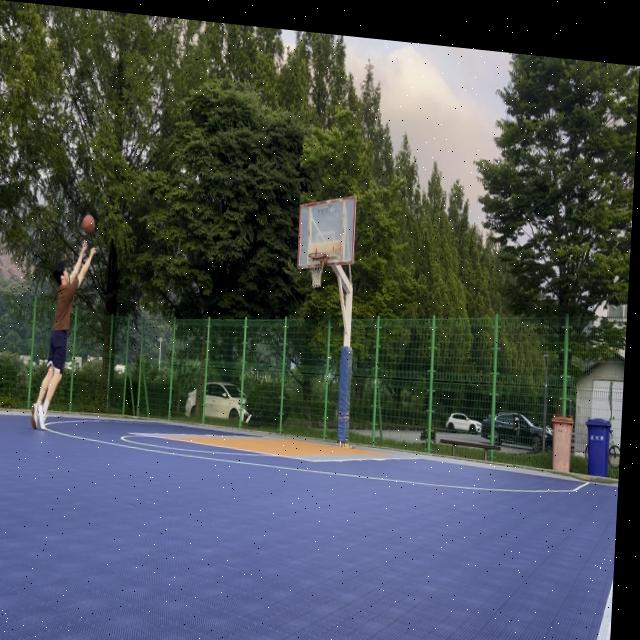basketball: (81, 213, 96, 238)
hoop: (307, 251, 327, 289)
